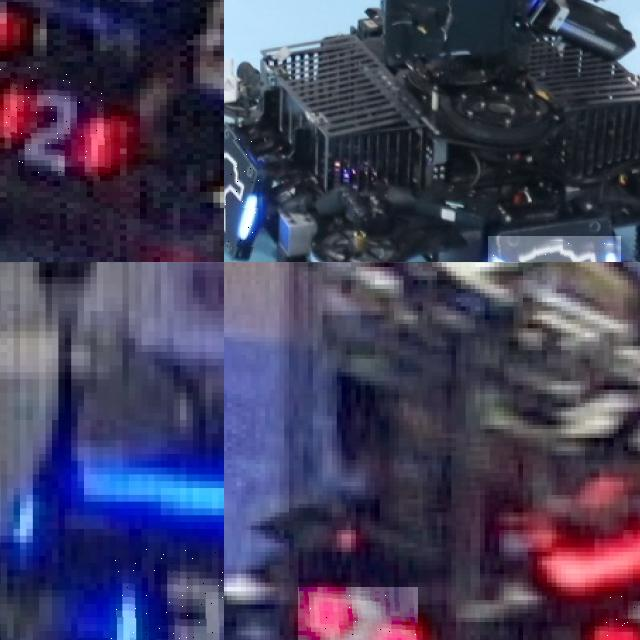B3: (109, 549, 224, 640)
Bs: (224, 139, 261, 246), (488, 236, 620, 262)
R2: (0, 67, 113, 175), (298, 586, 417, 640), (585, 595, 640, 640)
